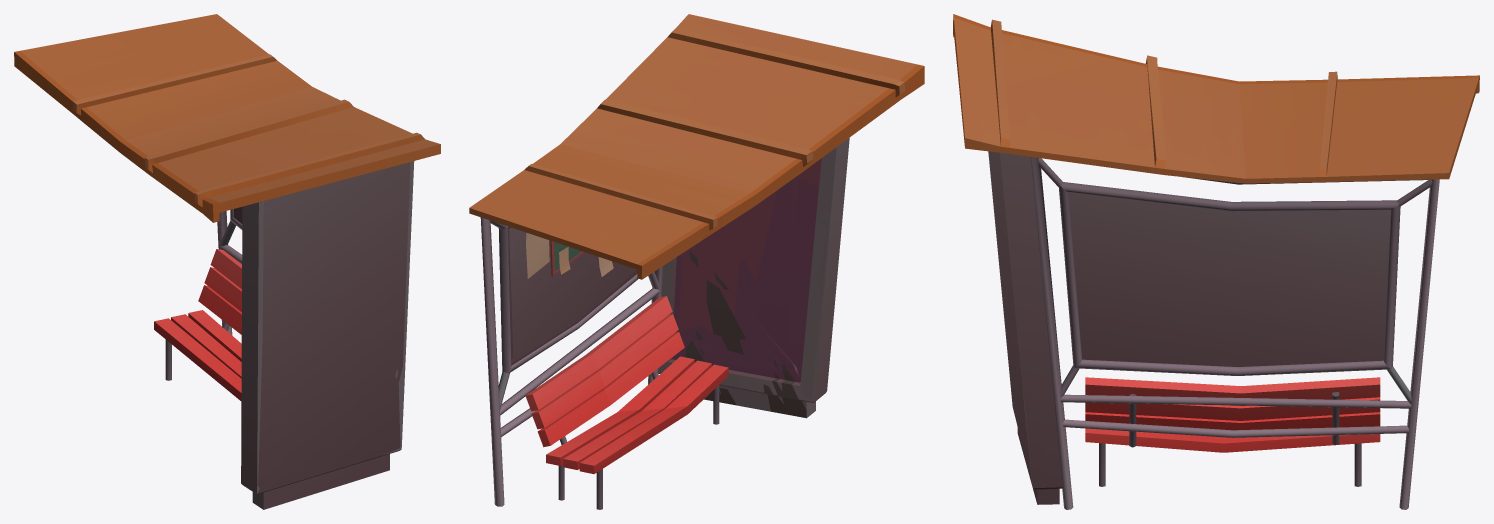
File: SM_BusStop.fbx
The picture shows the model from 3 angles, left to right: view 1: azimuth 30°, elevation 25°; view 2: azimuth 150°, elevation 25°; view 3: azimuth 270°, elevation 25°; orthographic projection. The views are drawn at different scales.
Parts seen in each view (by area): view 1: SM_BusStop; view 2: SM_BusStop; view 3: SM_BusStop.
Boxes of the visible parts, box(x1,y1,x2,y2) form: SM_BusStop: box(14, 14, 440, 509); SM_BusStop: box(469, 14, 924, 509); SM_BusStop: box(953, 14, 1479, 509).
Size of the model in its own units: 4.19 by 5.92 by 7.51.
Materials: 1 (1 with a texture image).
